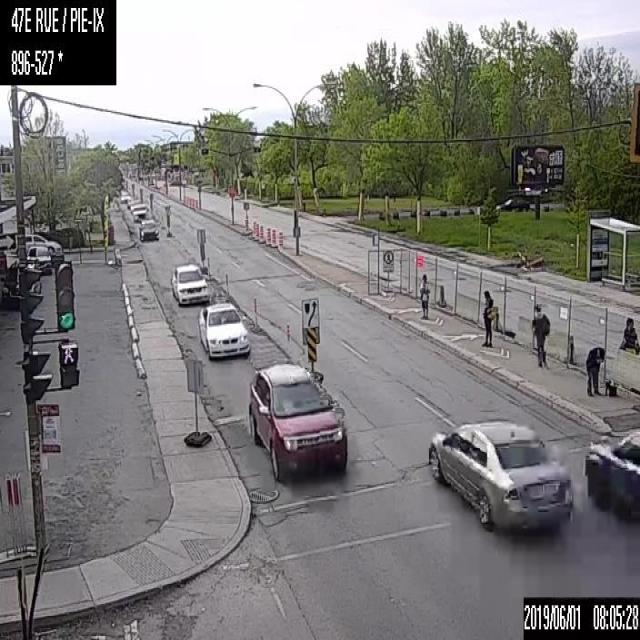construction: (206, 256, 210, 284), (253, 298, 256, 330), (251, 220, 256, 237), (225, 274, 228, 302), (258, 224, 263, 240), (254, 223, 259, 239), (265, 226, 270, 242), (277, 232, 282, 246), (243, 217, 248, 231), (271, 228, 275, 244), (191, 198, 194, 206), (194, 199, 196, 208)
pedestrian: (531, 305, 548, 367), (584, 345, 604, 395), (618, 317, 639, 355), (481, 289, 492, 347), (419, 274, 427, 318)
vehicle: (425, 419, 573, 532), (246, 361, 346, 479), (582, 427, 639, 521), (196, 300, 248, 360), (0, 259, 40, 311), (170, 263, 209, 304), (24, 232, 62, 256), (25, 245, 51, 272), (138, 220, 158, 241), (130, 200, 148, 220), (120, 189, 130, 201), (13, 244, 18, 257), (127, 200, 132, 208)
